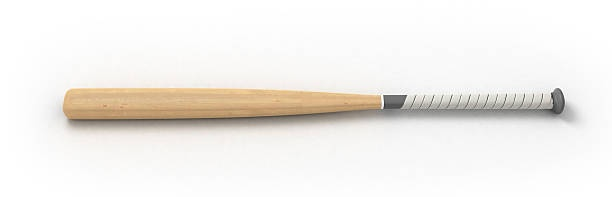bita: (62, 89, 566, 122)
